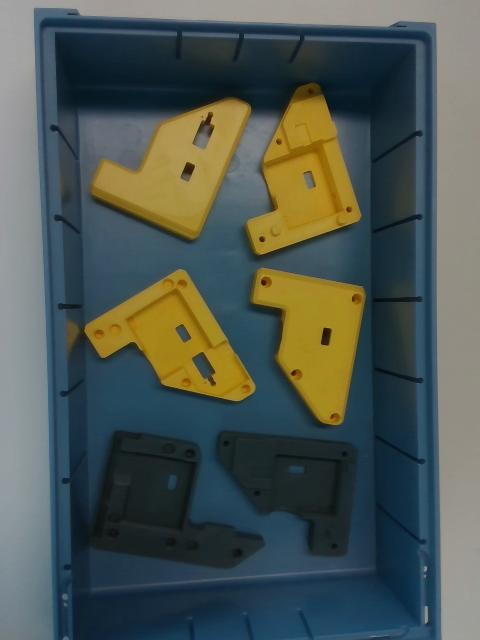1Agray: (211, 428, 357, 558)
1Ayellow: (245, 80, 364, 255), (249, 266, 369, 426)
1Byellow: (82, 270, 256, 409), (90, 98, 256, 242)
3Bgray: (87, 431, 266, 573)
